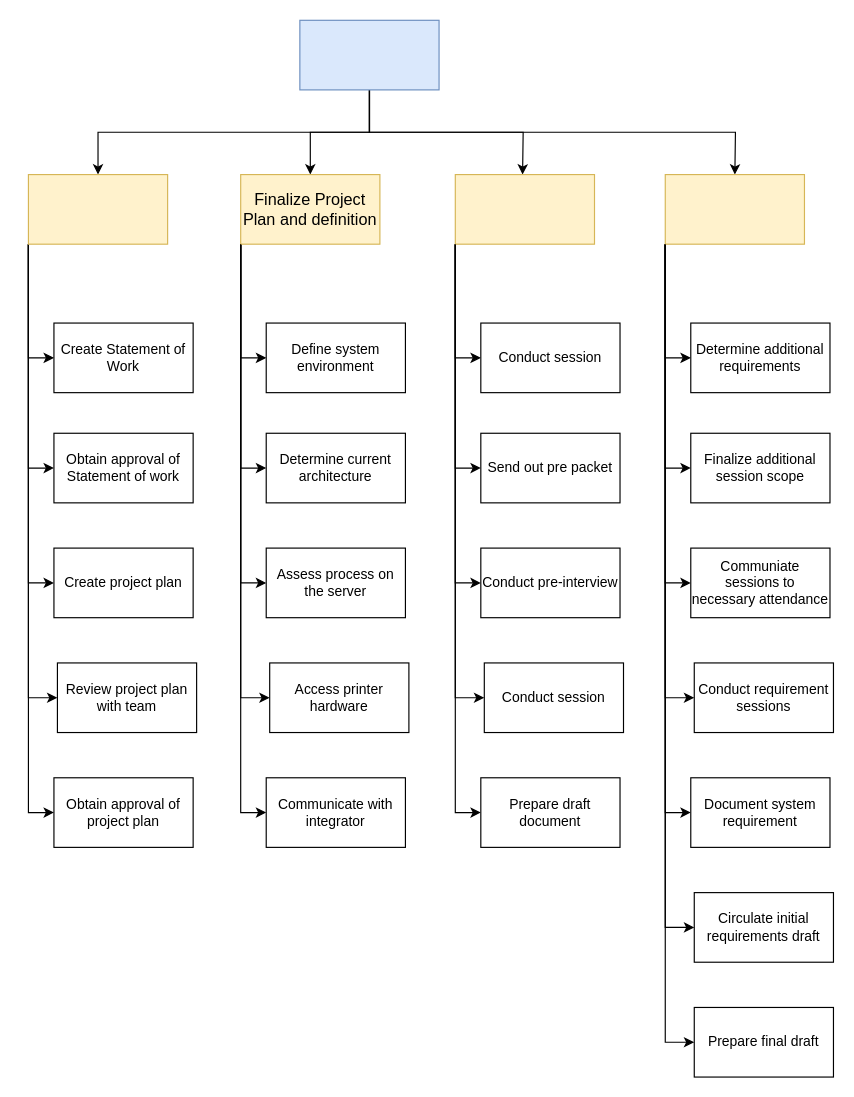
Image size: 854x1097. Some labels were removed from this diagram. Here are the shapes that lost their labels. From the top down, the box of each, then its label:
(299, 19, 439, 90): Sortware System Implementation
(27, 173, 168, 244): Build Project Plan
(454, 173, 594, 244): Complet architecture draft
(664, 173, 804, 244): Send out draft and review with key sponsor
